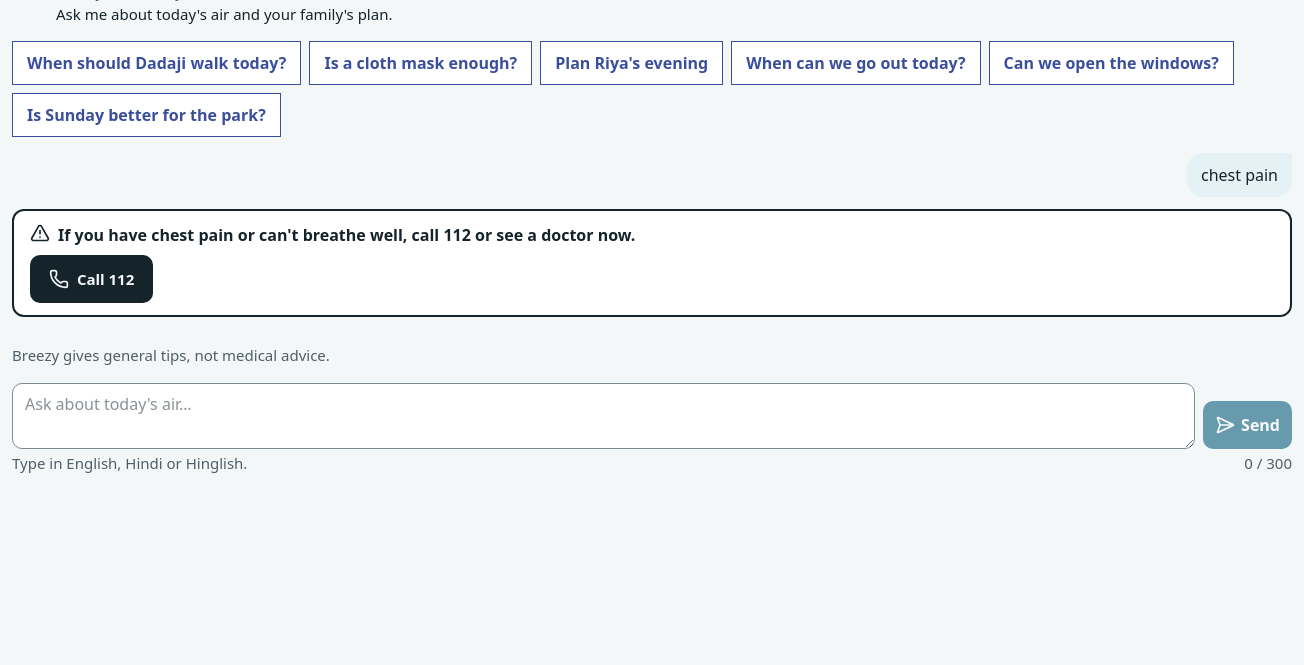
Test: BreezyView › shows the emergency note with Call 112, the basics, the daily limit and errors
Earlier steps of the test are not shown.
Expected: the message shows "call 112 or see a doctor now", [58,224,635,246]
Type "hi" into the text box named "Your question for Breezy" at (604, 416), box [12,383,1195,449]
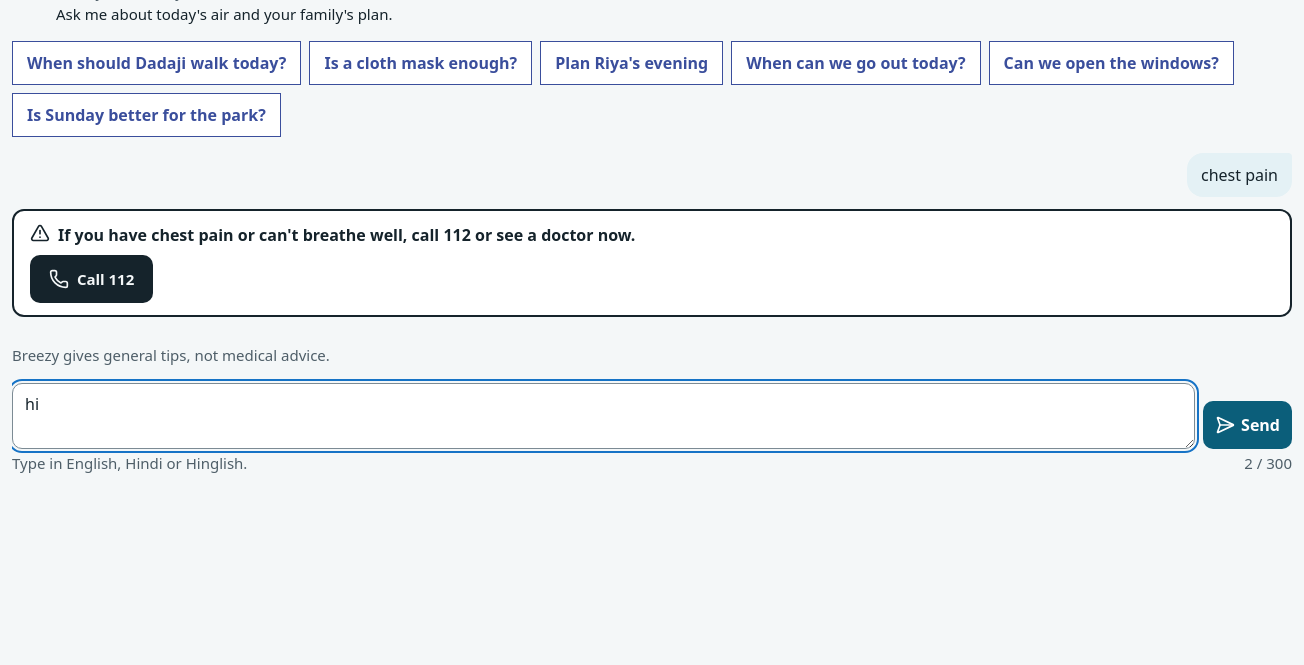
Click the button "Send" at (1248, 425), box [1203,401,1292,449]
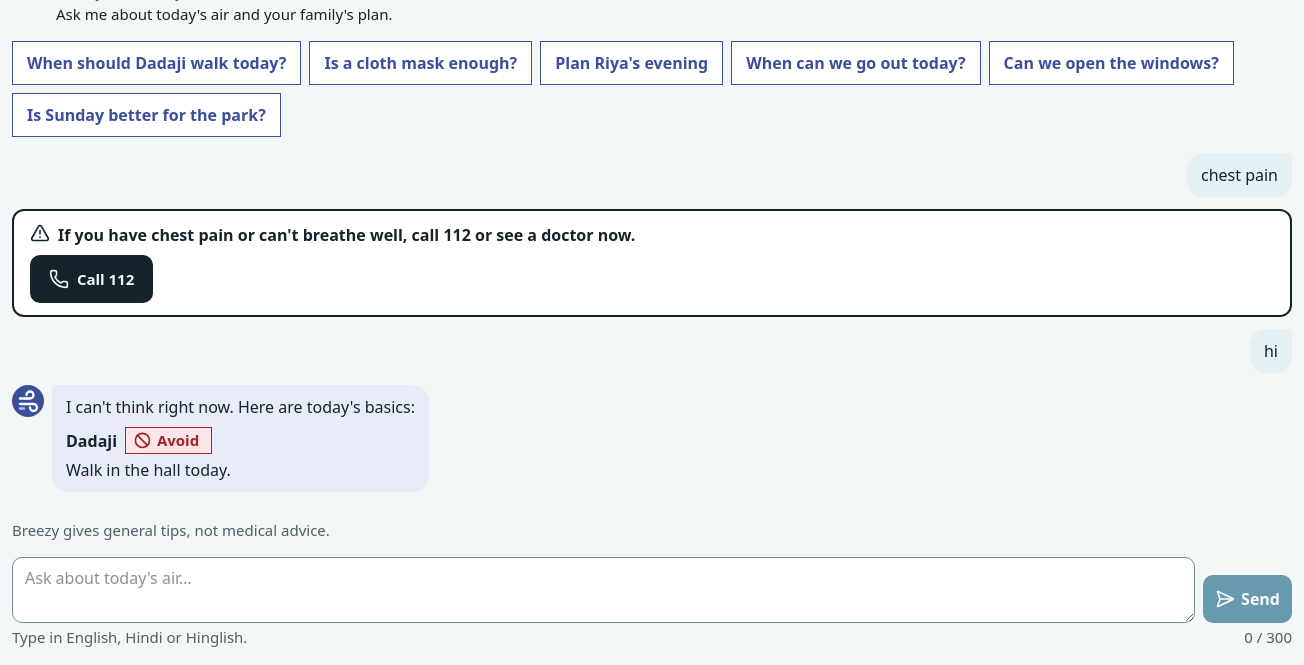
Now the text "I can't think right now. Here are today's basics:" is shown, box [66,395,415,419]
Now the text "Walk in the hall today." is shown, box [66,459,231,481]
Type "hi" into the text box named "Your question for Breezy" at (604, 590), box [12,558,1195,624]
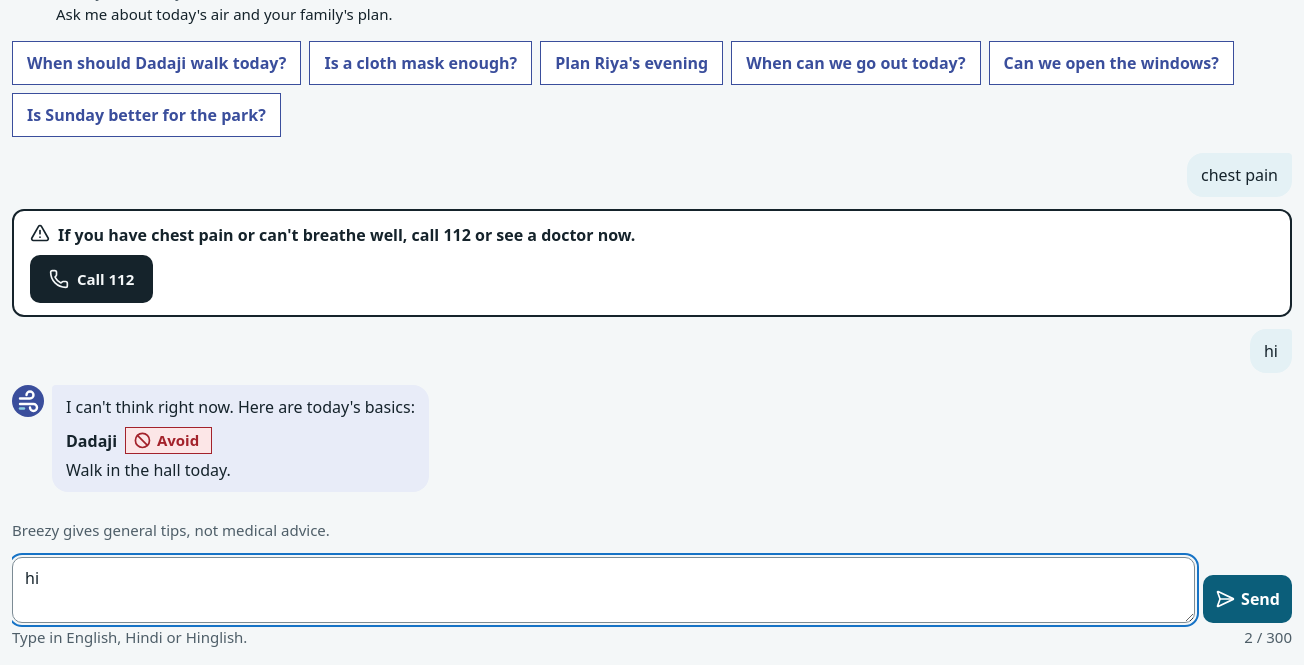
Click the button "Send" at (1248, 600), box [1203,576,1292,624]
(page scrolled)
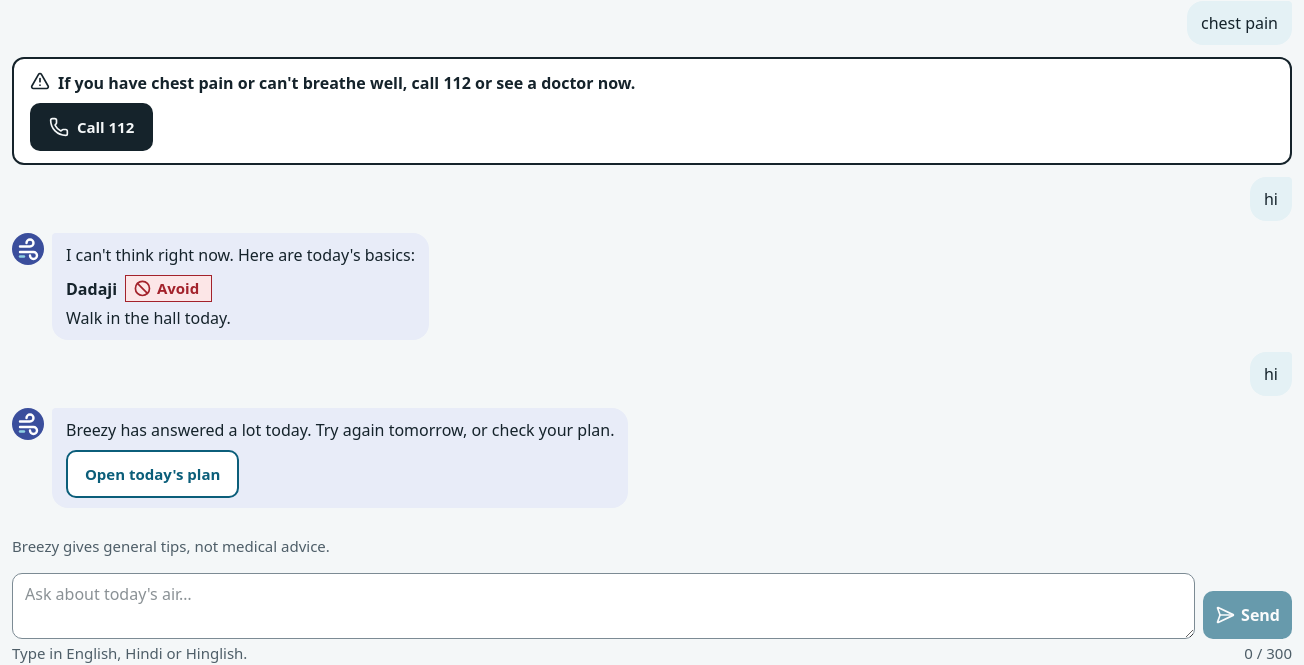
Type "hi" into the text box named "Your question for Breezy" at (604, 606), box [12,574,1195,640]
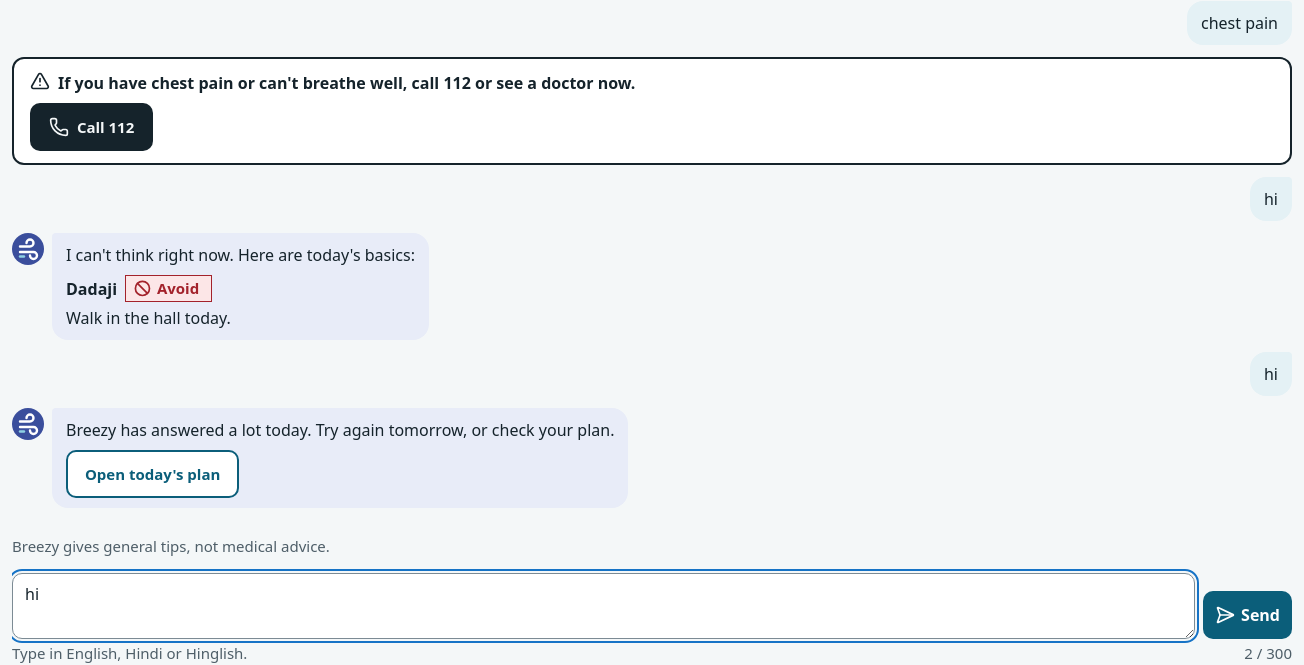
Click the button "Send" at (1248, 616), box [1203,592,1292,640]
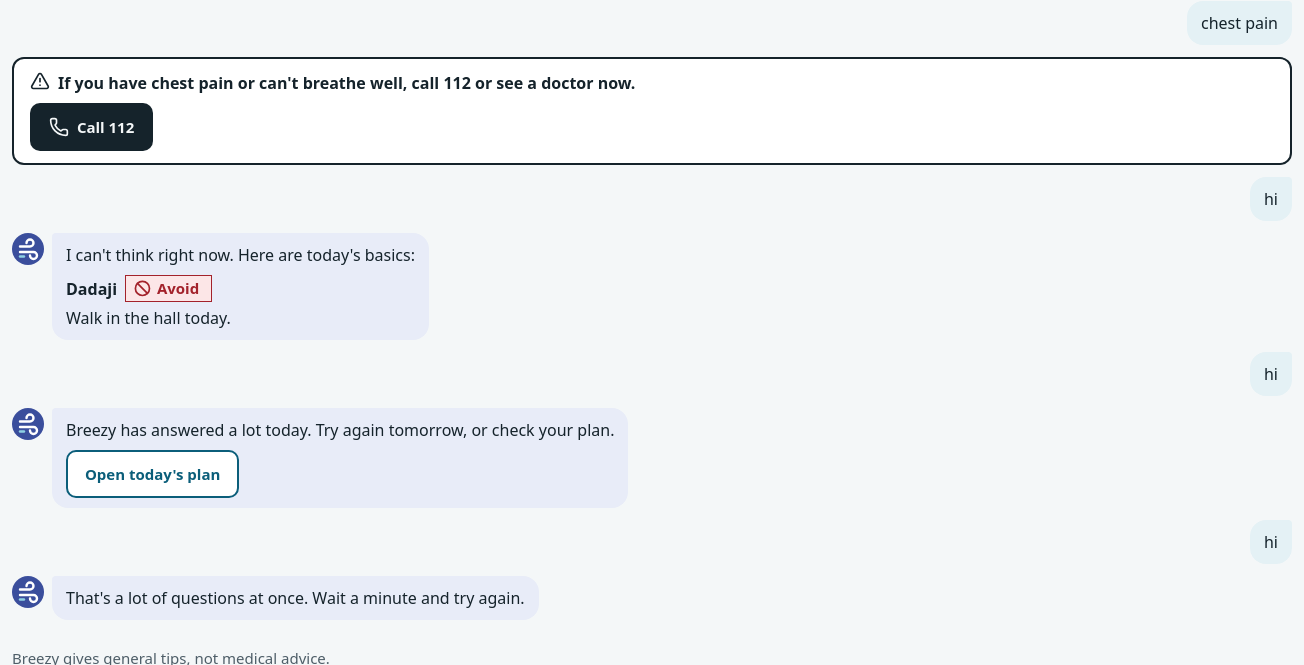
Now the text "That's a lot of questions at once. Wait a minute and try again." is shown, box [66,586,525,610]
